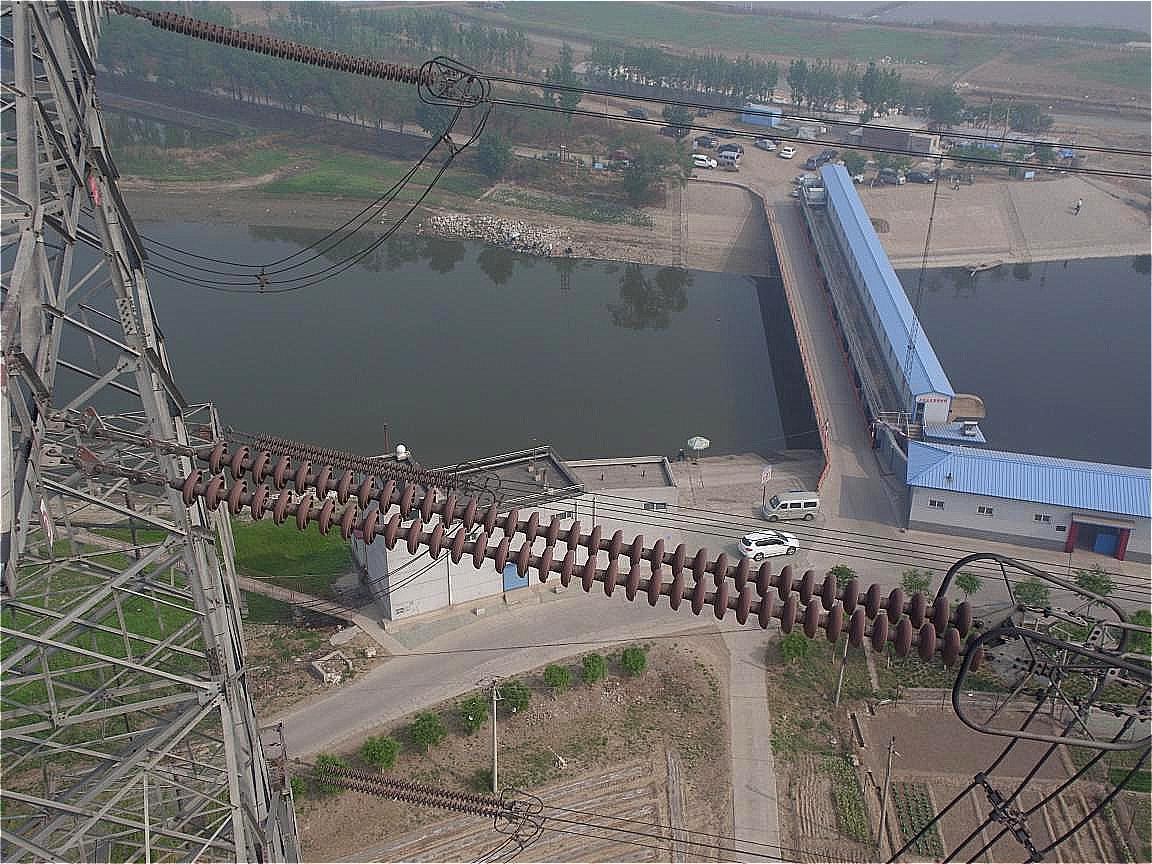insultor1: (160, 427, 997, 675)
